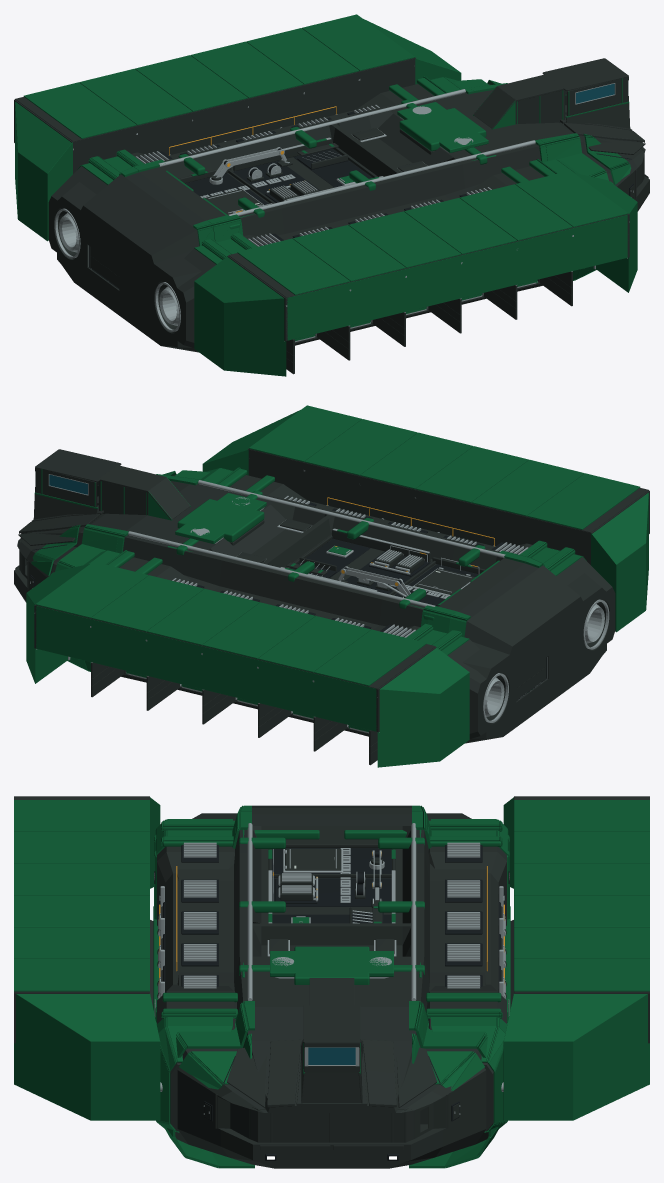
Rendered from pioneer.glb.
The picture shows the model from 3 angles, top to bottom: view 1: azimuth 30°, elevation 25°; view 2: azimuth 150°, elevation 25°; view 3: azimuth 270°, elevation 25°; orthographic projection. The views are drawn at different scales.
Parts seen in each view (by area): view 1: Pioneer saved-master body; view 2: Pioneer saved-master body; view 3: Pioneer saved-master body.
Boxes of the visible parts, x1,y1,x2,y2 form: Pioneer saved-master body: (14, 14, 649, 376); Pioneer saved-master body: (14, 405, 649, 767); Pioneer saved-master body: (14, 796, 649, 1168).
Bounding box in the file's own units: 72 × 20.35 × 67.6.
